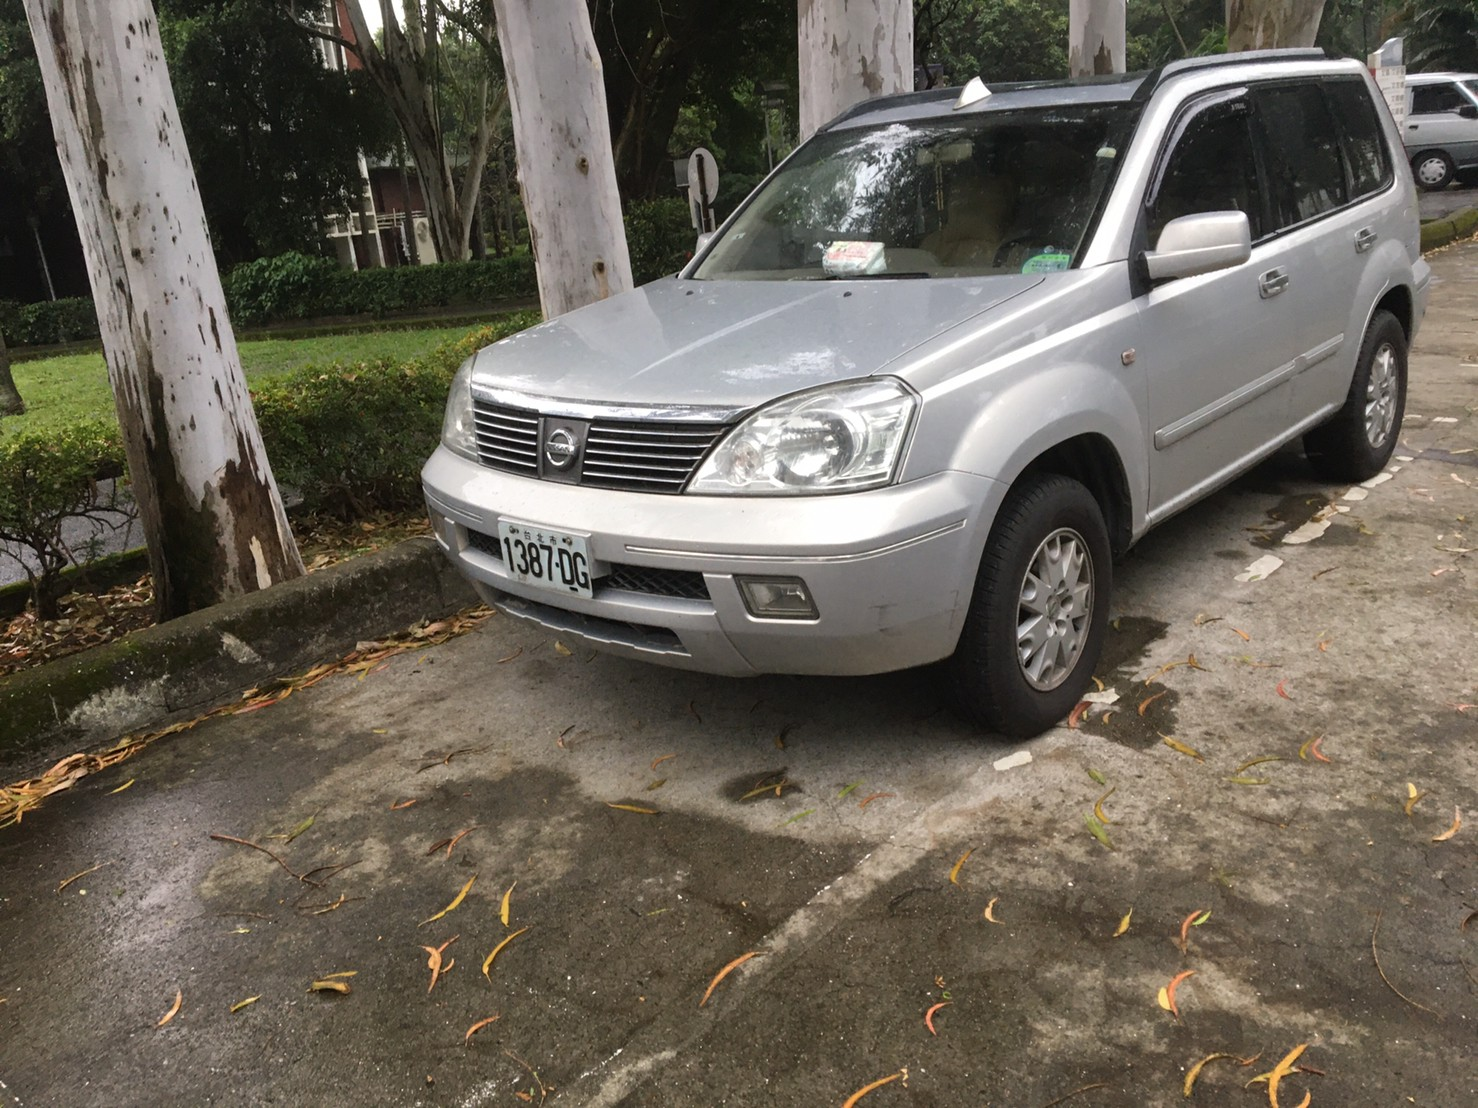LP: (493, 516, 588, 595)
